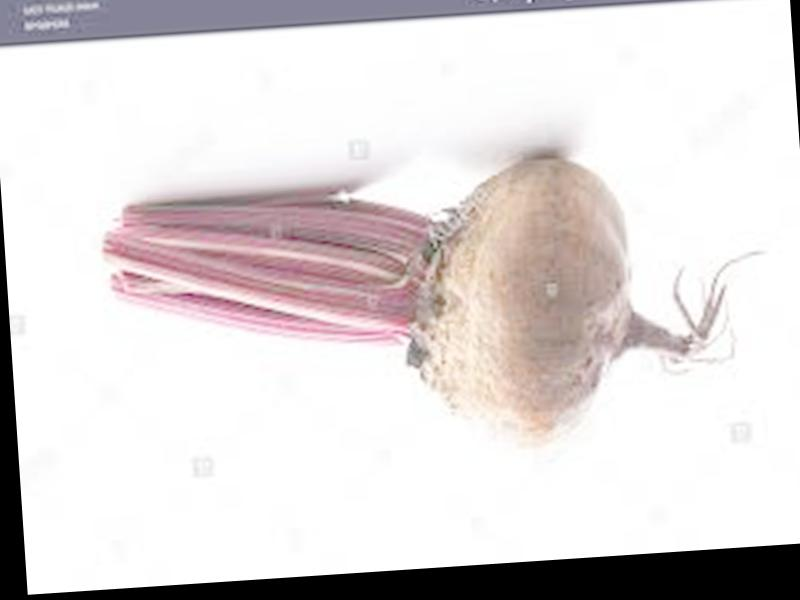Beet: (97, 141, 776, 472)
